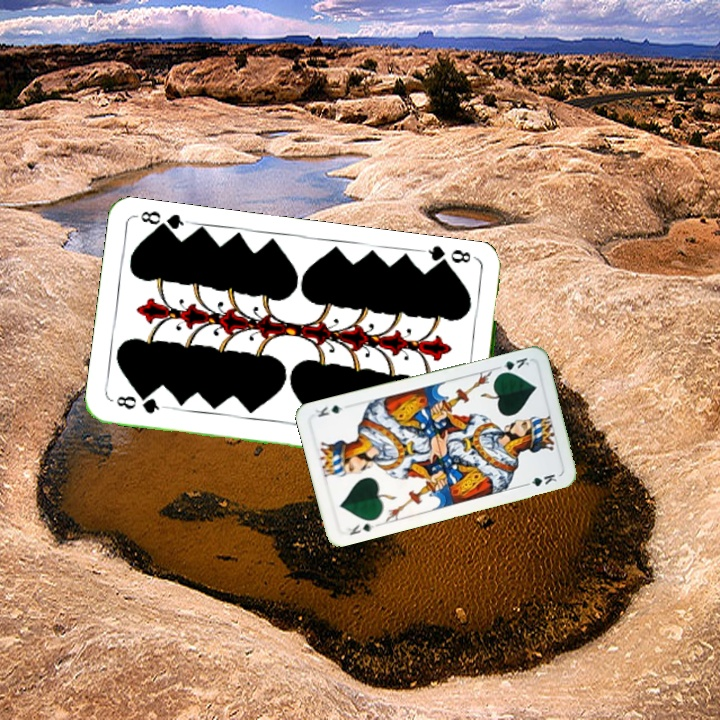G8: (421, 242, 480, 272), (112, 392, 168, 416)
GK: (492, 353, 532, 377), (344, 519, 380, 538)
